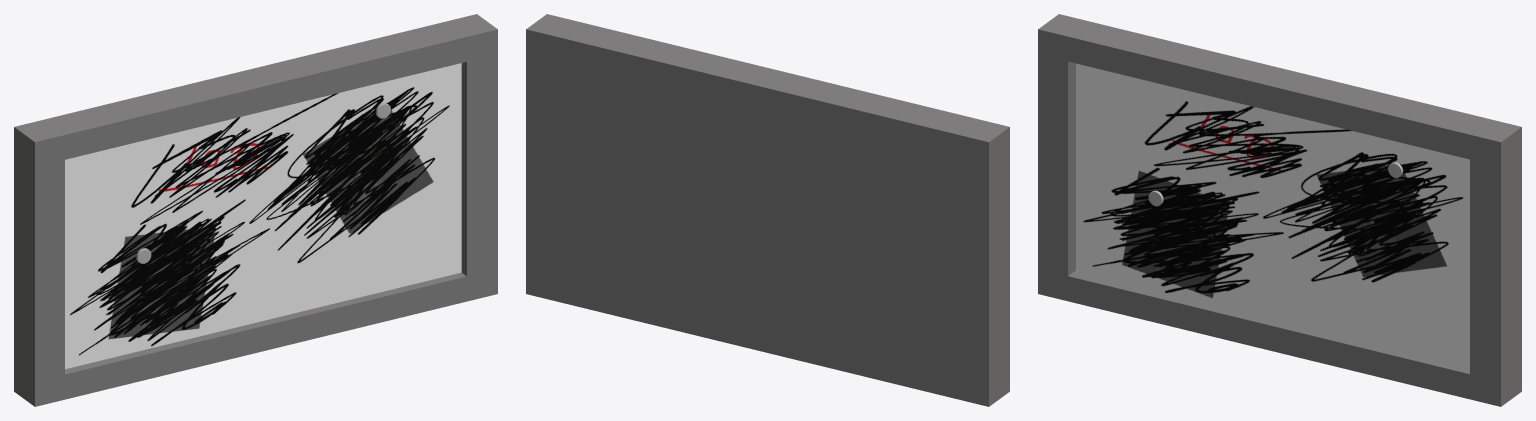
File: boad4.fbx
The picture shows the model from 3 angles, left to right: view 1: azimuth 30°, elevation 25°; view 2: azimuth 150°, elevation 25°; view 3: azimuth 330°, elevation 25°; orthographic projection.
Visible parts, largest first — view 1: 平面, Cube; view 2: Cube; view 3: 平面, Cube.
Boxes of the visible parts, box(x1,y1,x2,y2) form: 平面: box(65, 63, 461, 369); Cube: box(14, 14, 497, 406); Cube: box(526, 14, 1009, 406); 平面: box(1076, 63, 1469, 368); Cube: box(1038, 14, 1521, 406).
Size of the model in its own units: 366 by 200 by 28.72.
4 materials, 1 textured.
